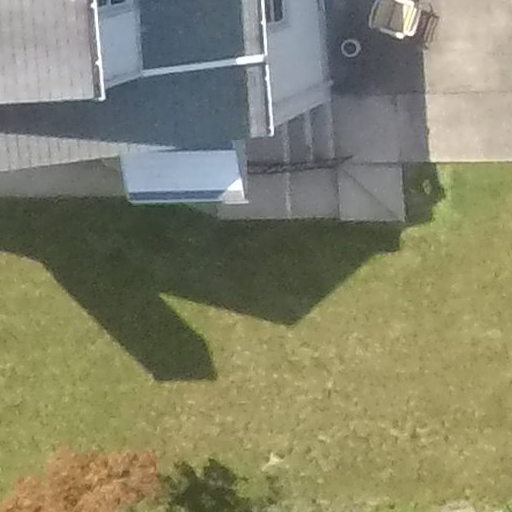chair: (365, 1, 426, 46)
container: (339, 38, 359, 57)
